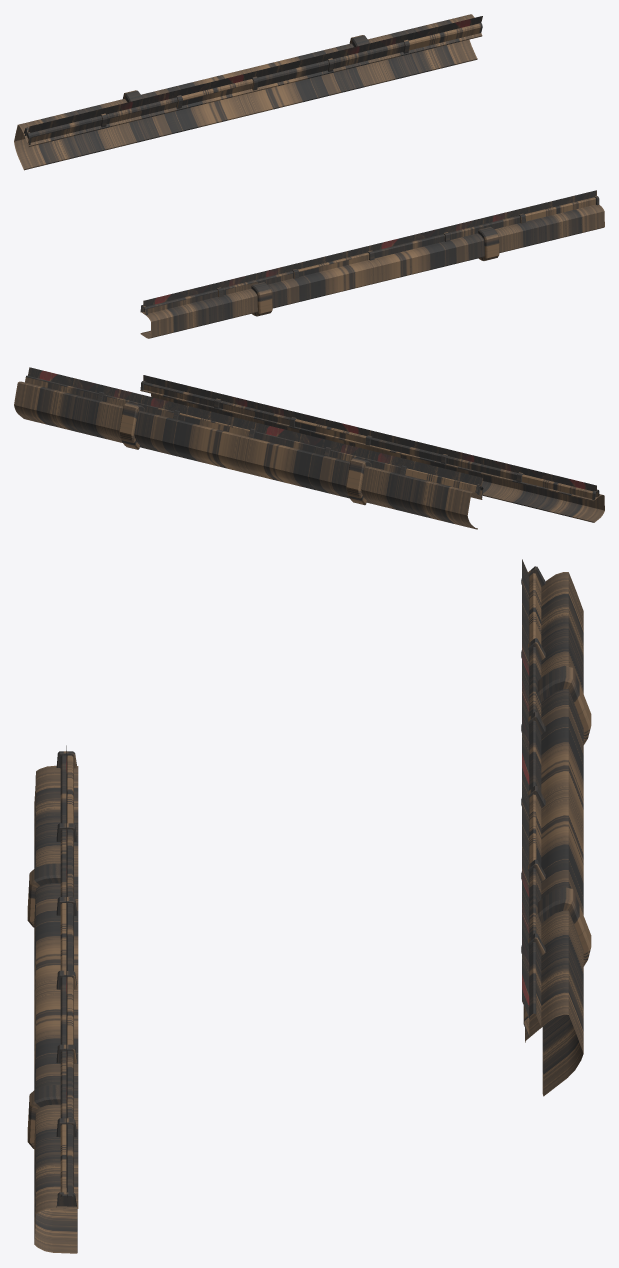
File: Mur_D_C.fbx
3 renders of one model, top to bottom at view 1: azimuth 30°, elevation 25°; view 2: azimuth 150°, elevation 25°; view 3: azimuth 270°, elevation 25°, orthographic. The views are drawn at different scales.
Parts seen in each view (by area): view 1: polySurface363; view 2: polySurface363; view 3: polySurface363.
Boxes of the visible parts, <box> form: polySurface363: <box>14,14,604,338</box>; polySurface363: <box>14,367,604,529</box>; polySurface363: <box>27,559,591,1253</box>.
Bounding box in the file's own units: 30 × 8.2 × 16.14.
